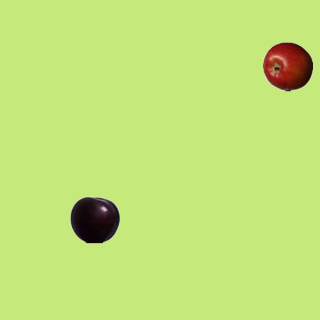Apple Braeburn: (262, 41, 312, 91)
Cherry Wax Black: (69, 194, 119, 244)
